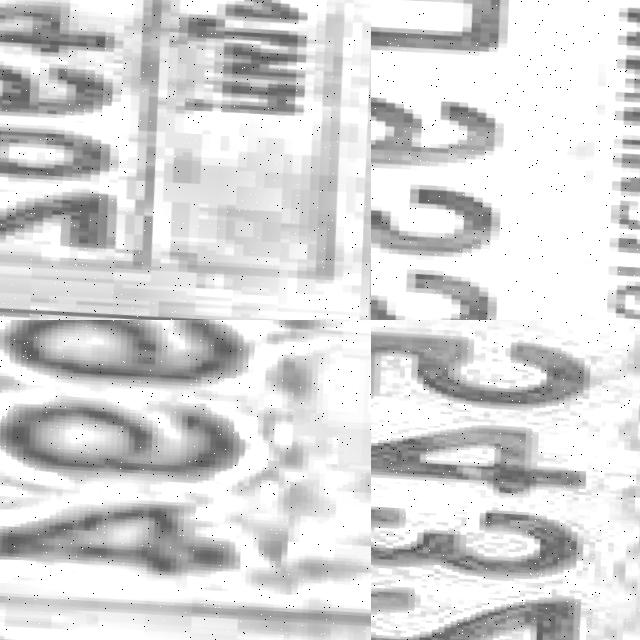license-plate: (0, 0, 371, 320), (0, 320, 371, 640), (371, 0, 640, 320), (371, 320, 640, 640)
